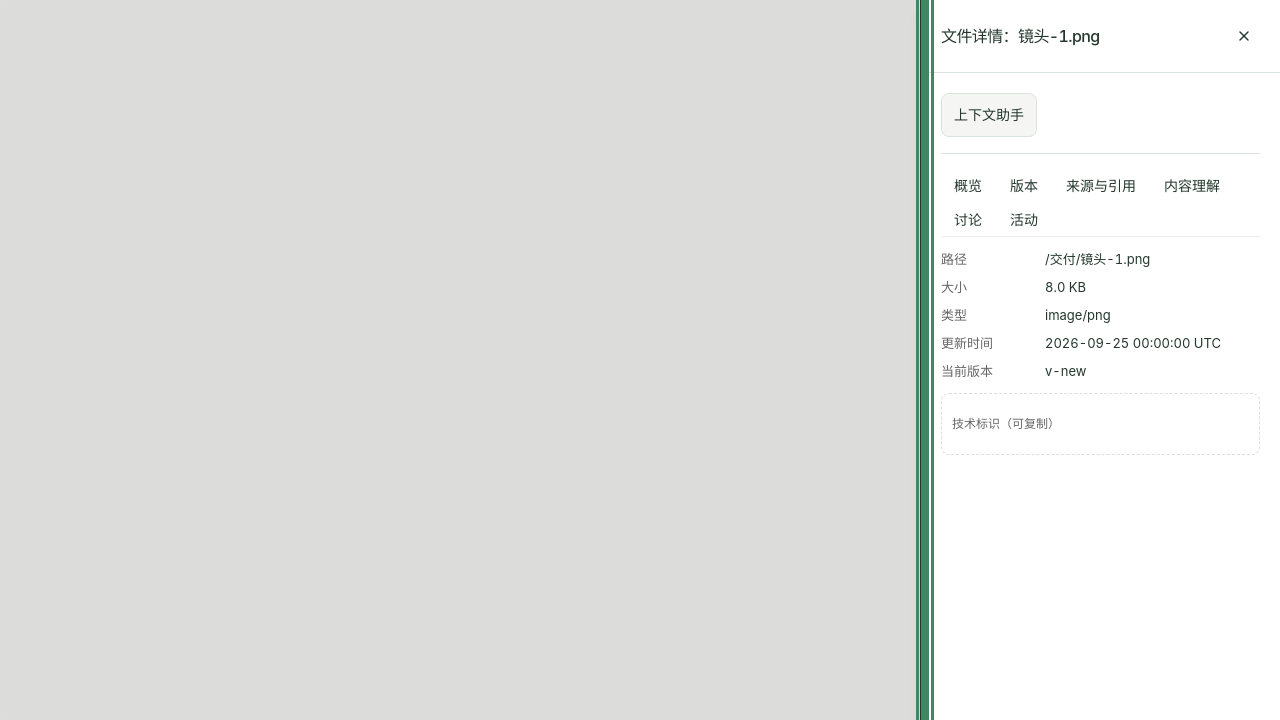
Test: TestFPInformationWorkspace › reports unsupported content bindings without affecting the file itself
Click the tab "内容理解".
click(1192, 186)  # box [1151,170,1233,202]
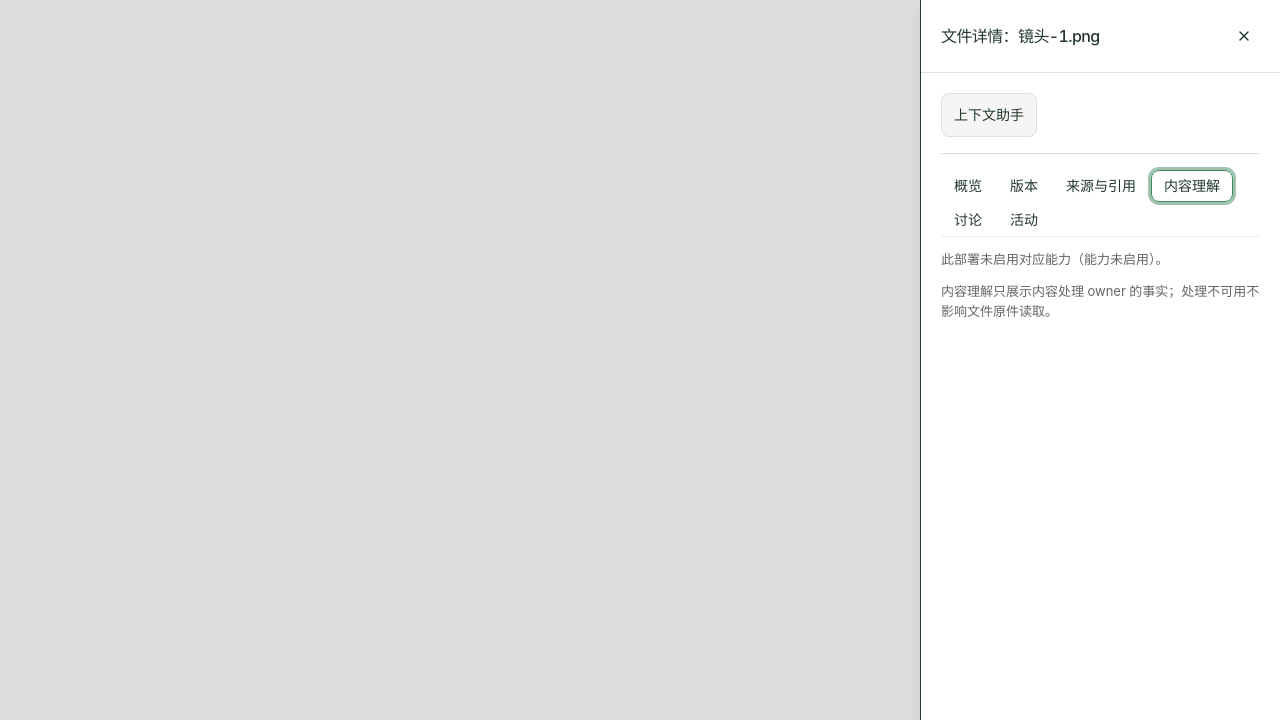
Expected: the element "内容理解" shows "此部署未启用对应能力", [941,251,1084,267]
Expected: the element "内容理解" shows "处理不可用不影响文件原件读取", [941,283,1259,319]
